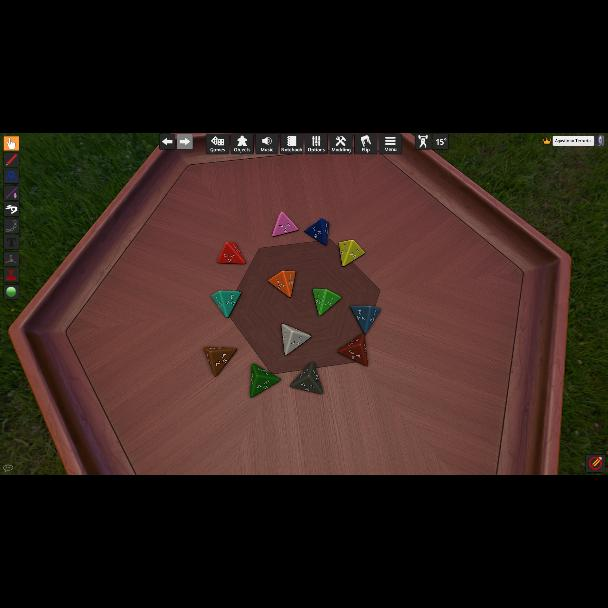d4: (248, 363, 280, 397), (290, 362, 322, 394), (338, 333, 368, 367), (204, 347, 236, 378), (280, 324, 310, 356), (212, 289, 242, 317), (350, 306, 380, 334), (313, 288, 341, 316), (268, 270, 296, 298), (304, 218, 330, 246), (340, 240, 365, 266), (272, 212, 298, 236), (218, 242, 246, 264)
